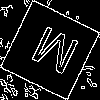M: (25, 25, 81, 85)
